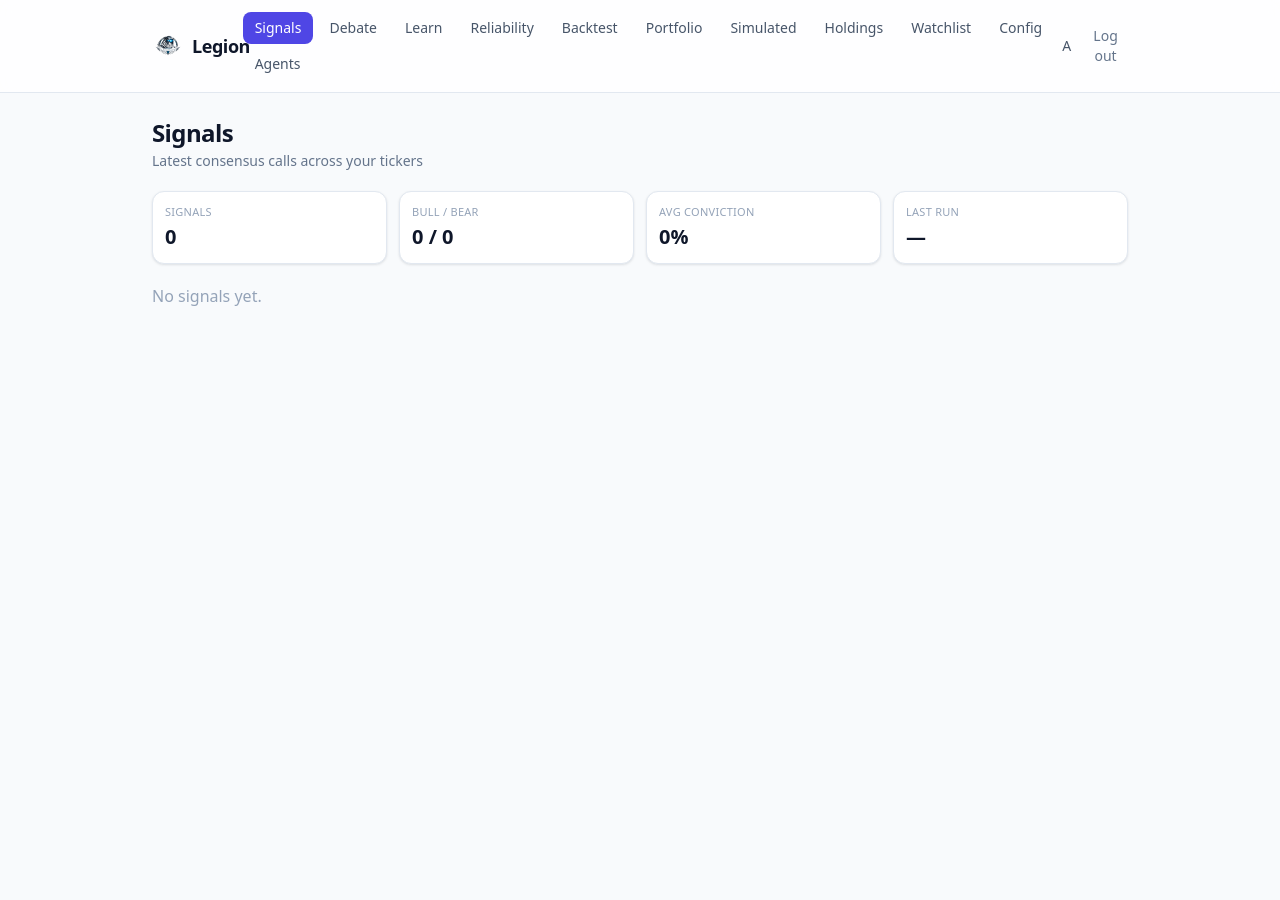
Test: App shell + routing › navigates to the Learn page when its nav link is clicked
Click the link "Learn".
click(424, 28)  # box x1=405 y1=18 x2=442 y2=37
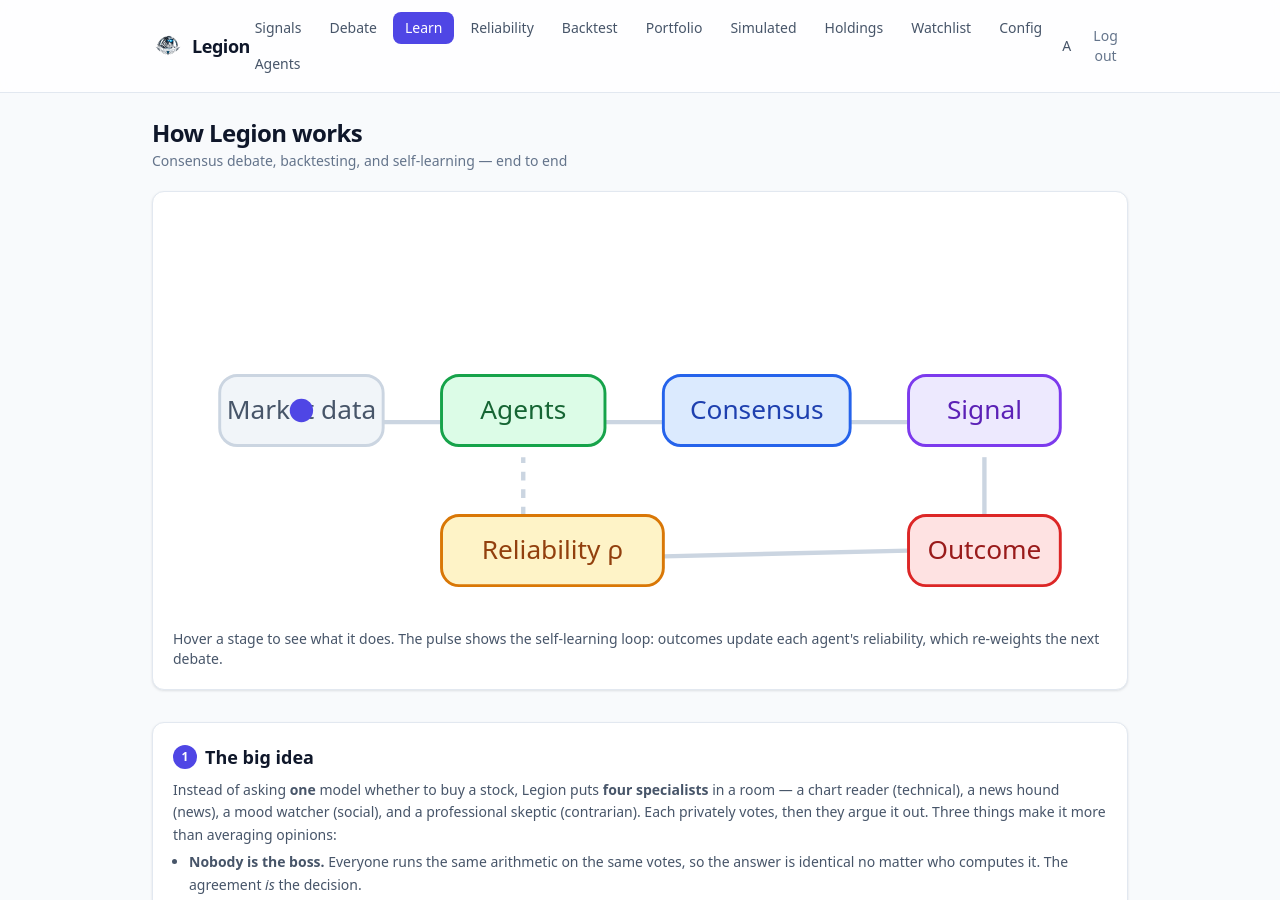
Check: the heading "How Legion works" is shown, box x1=152 y1=116 x2=362 y2=149
